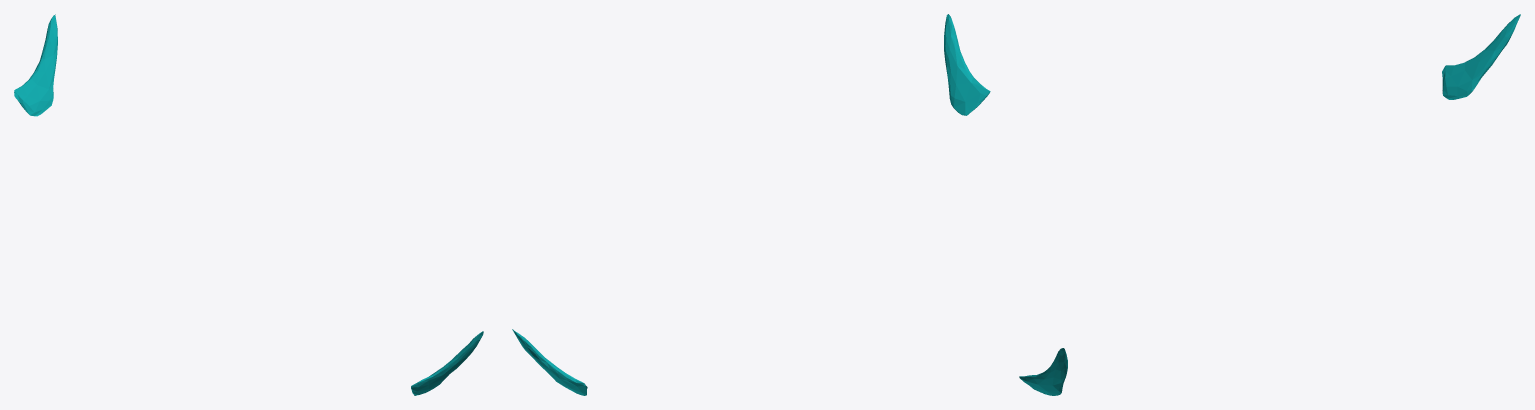
The picture shows the model from 3 angles, left to right: view 1: azimuth 30°, elevation 25°; view 2: azimuth 150°, elevation 25°; view 3: azimuth 330°, elevation 25°; orthographic projection. The views are drawn at different scales.
Visible parts, largest first — view 1: 759.obj; view 2: 759.obj; view 3: 759.obj.
Boxes of the visible parts, x1,y1,x2,y2 form: 759.obj: (14,14,483,395); 759.obj: (512,14,990,395); 759.obj: (1019,14,1520,395).
Size of the model in its own units: 728 by 870 by 9139.
